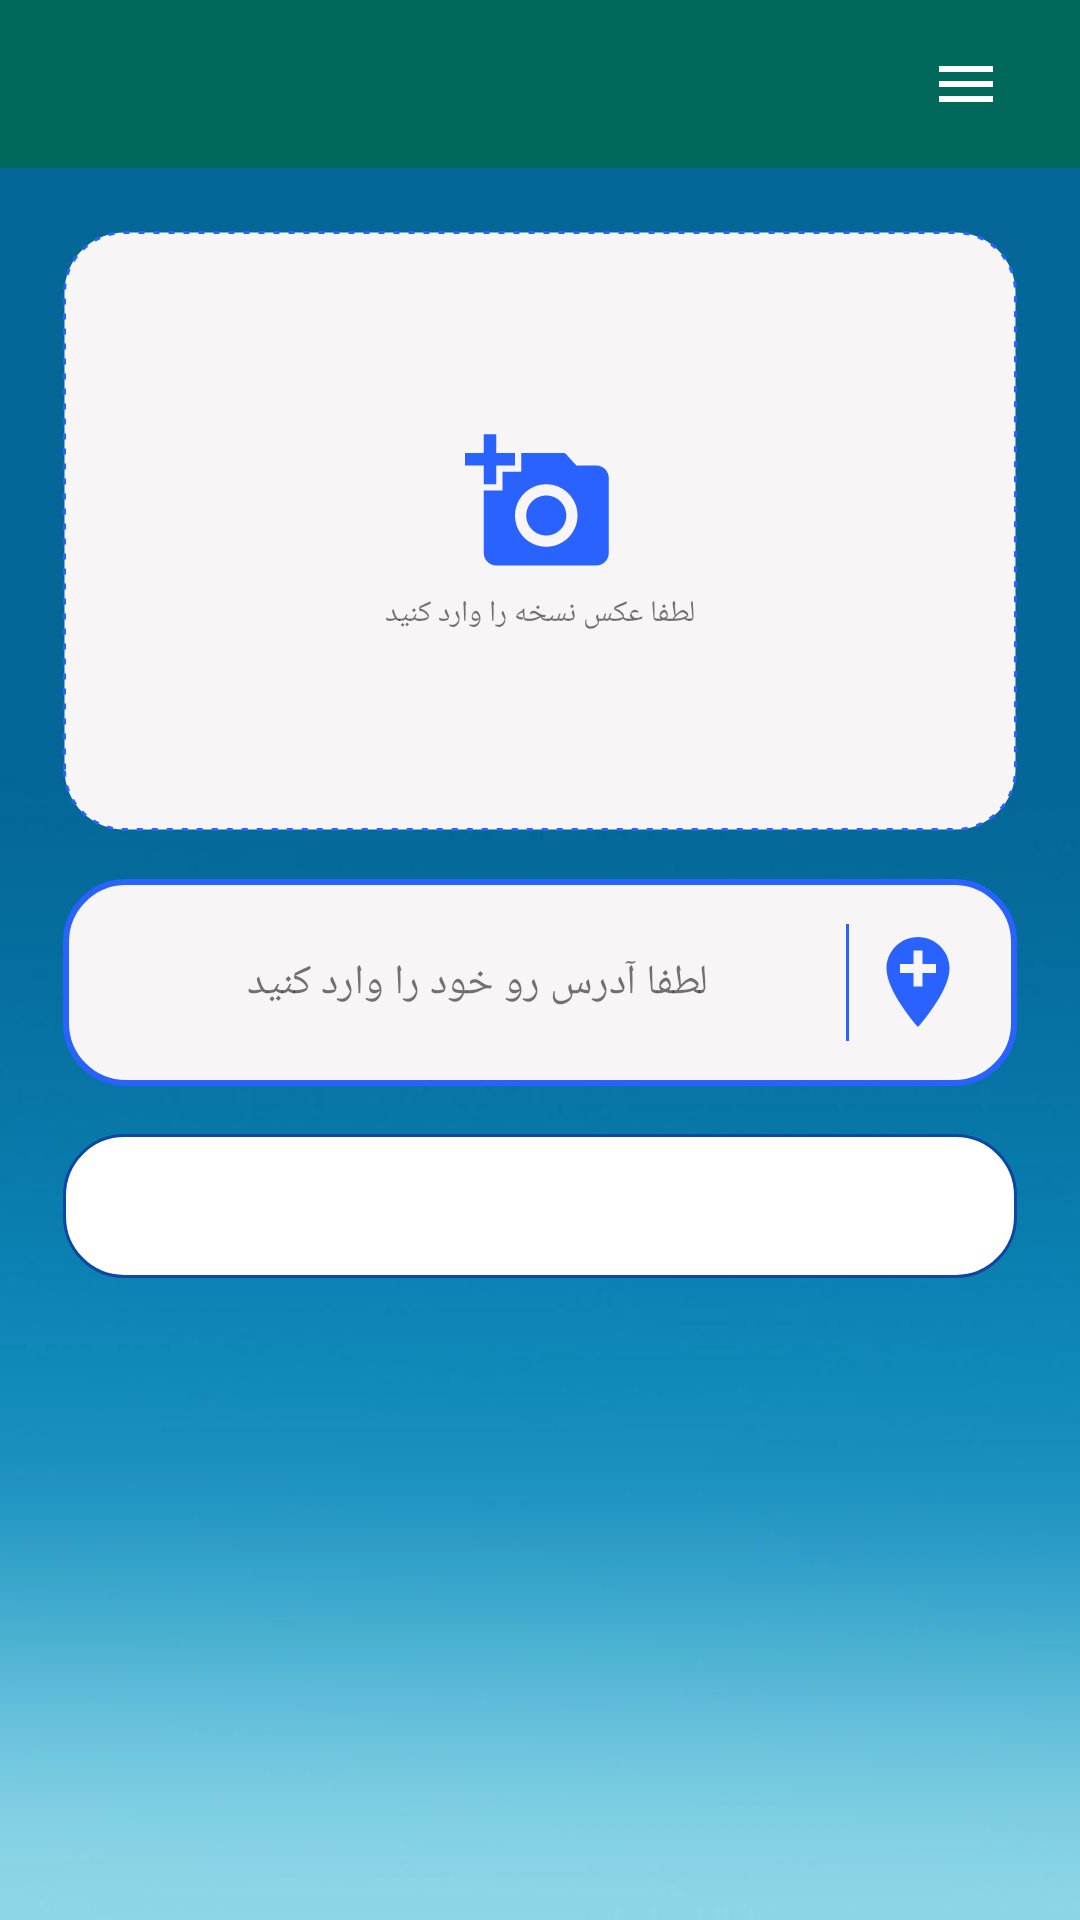

Icons on this 1080×1920 Android screen, each with the point to tap as point (x, y):
add photo: point (537, 500)
drawer: point (966, 84)
location: point (918, 982)
